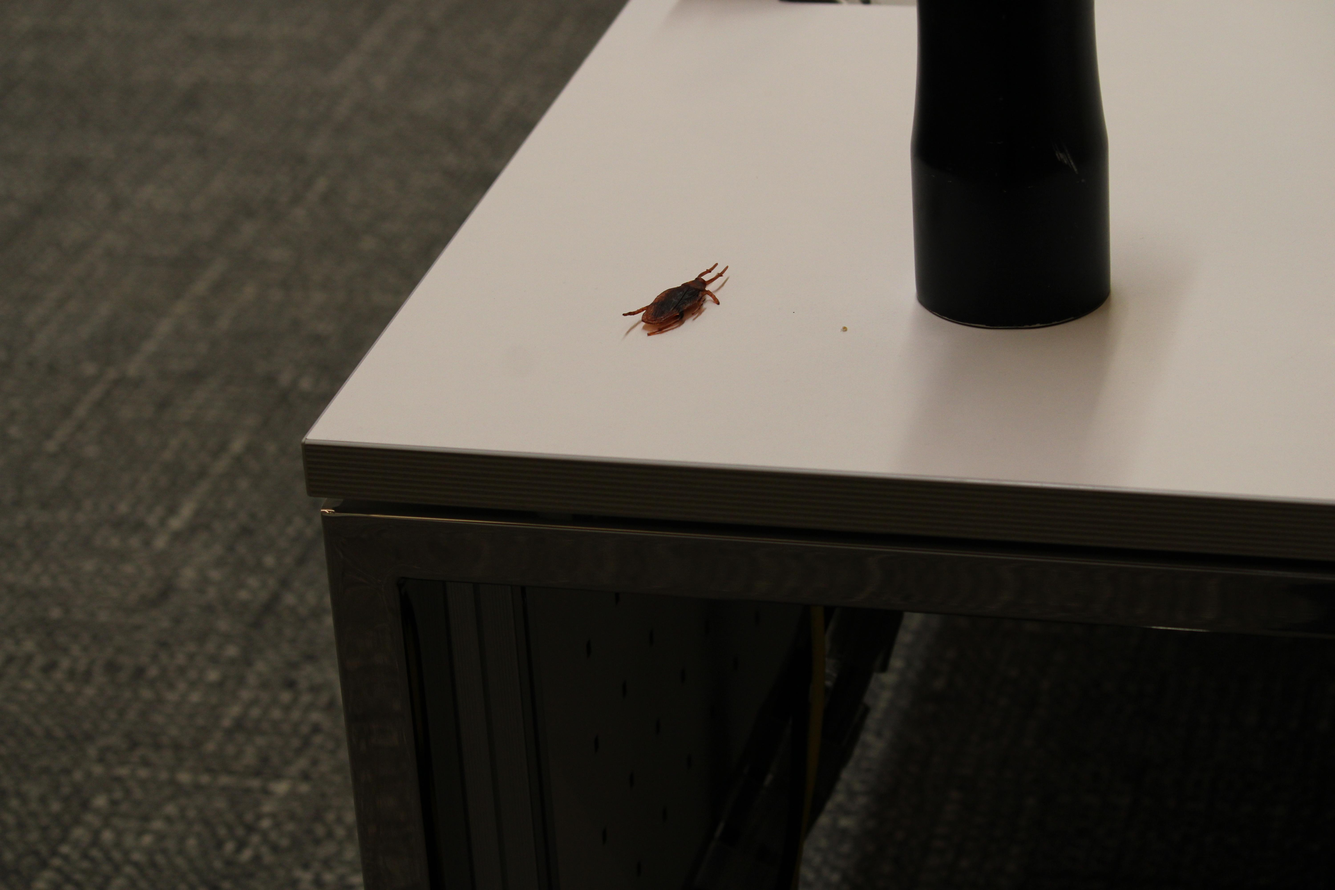cockroach: (619, 265, 726, 338)
